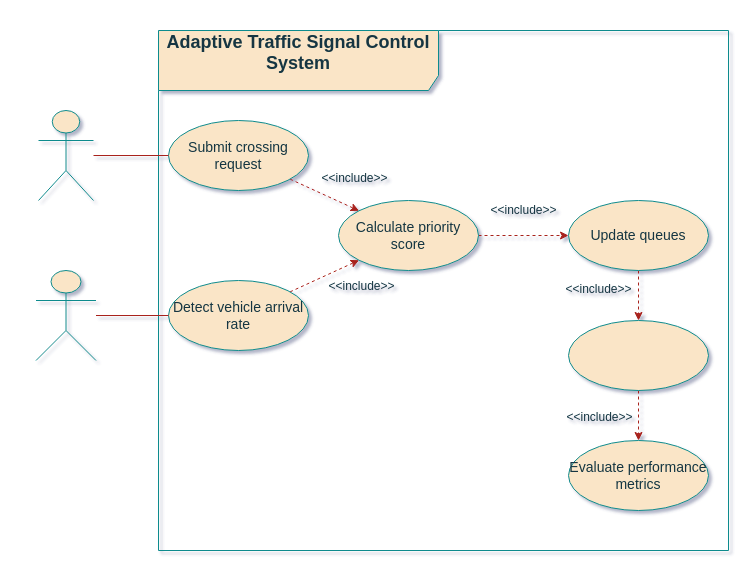
This 752x574 diagram has some shape labels left out. Here are the shapes that lost their labels. From the top down, the centre of each, then its label:
At (x=66, y=155): "Pedestrian".
At (x=65, y=315): "Vehicle sensor".
At (x=638, y=355): "Allocate Signals".
